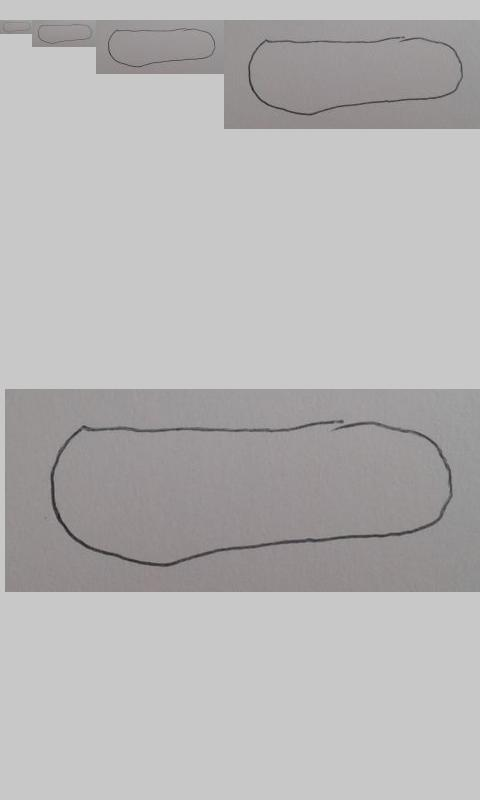chip: (50, 419, 453, 568), (248, 36, 464, 116), (107, 27, 216, 68), (37, 23, 93, 44), (2, 21, 31, 33)
